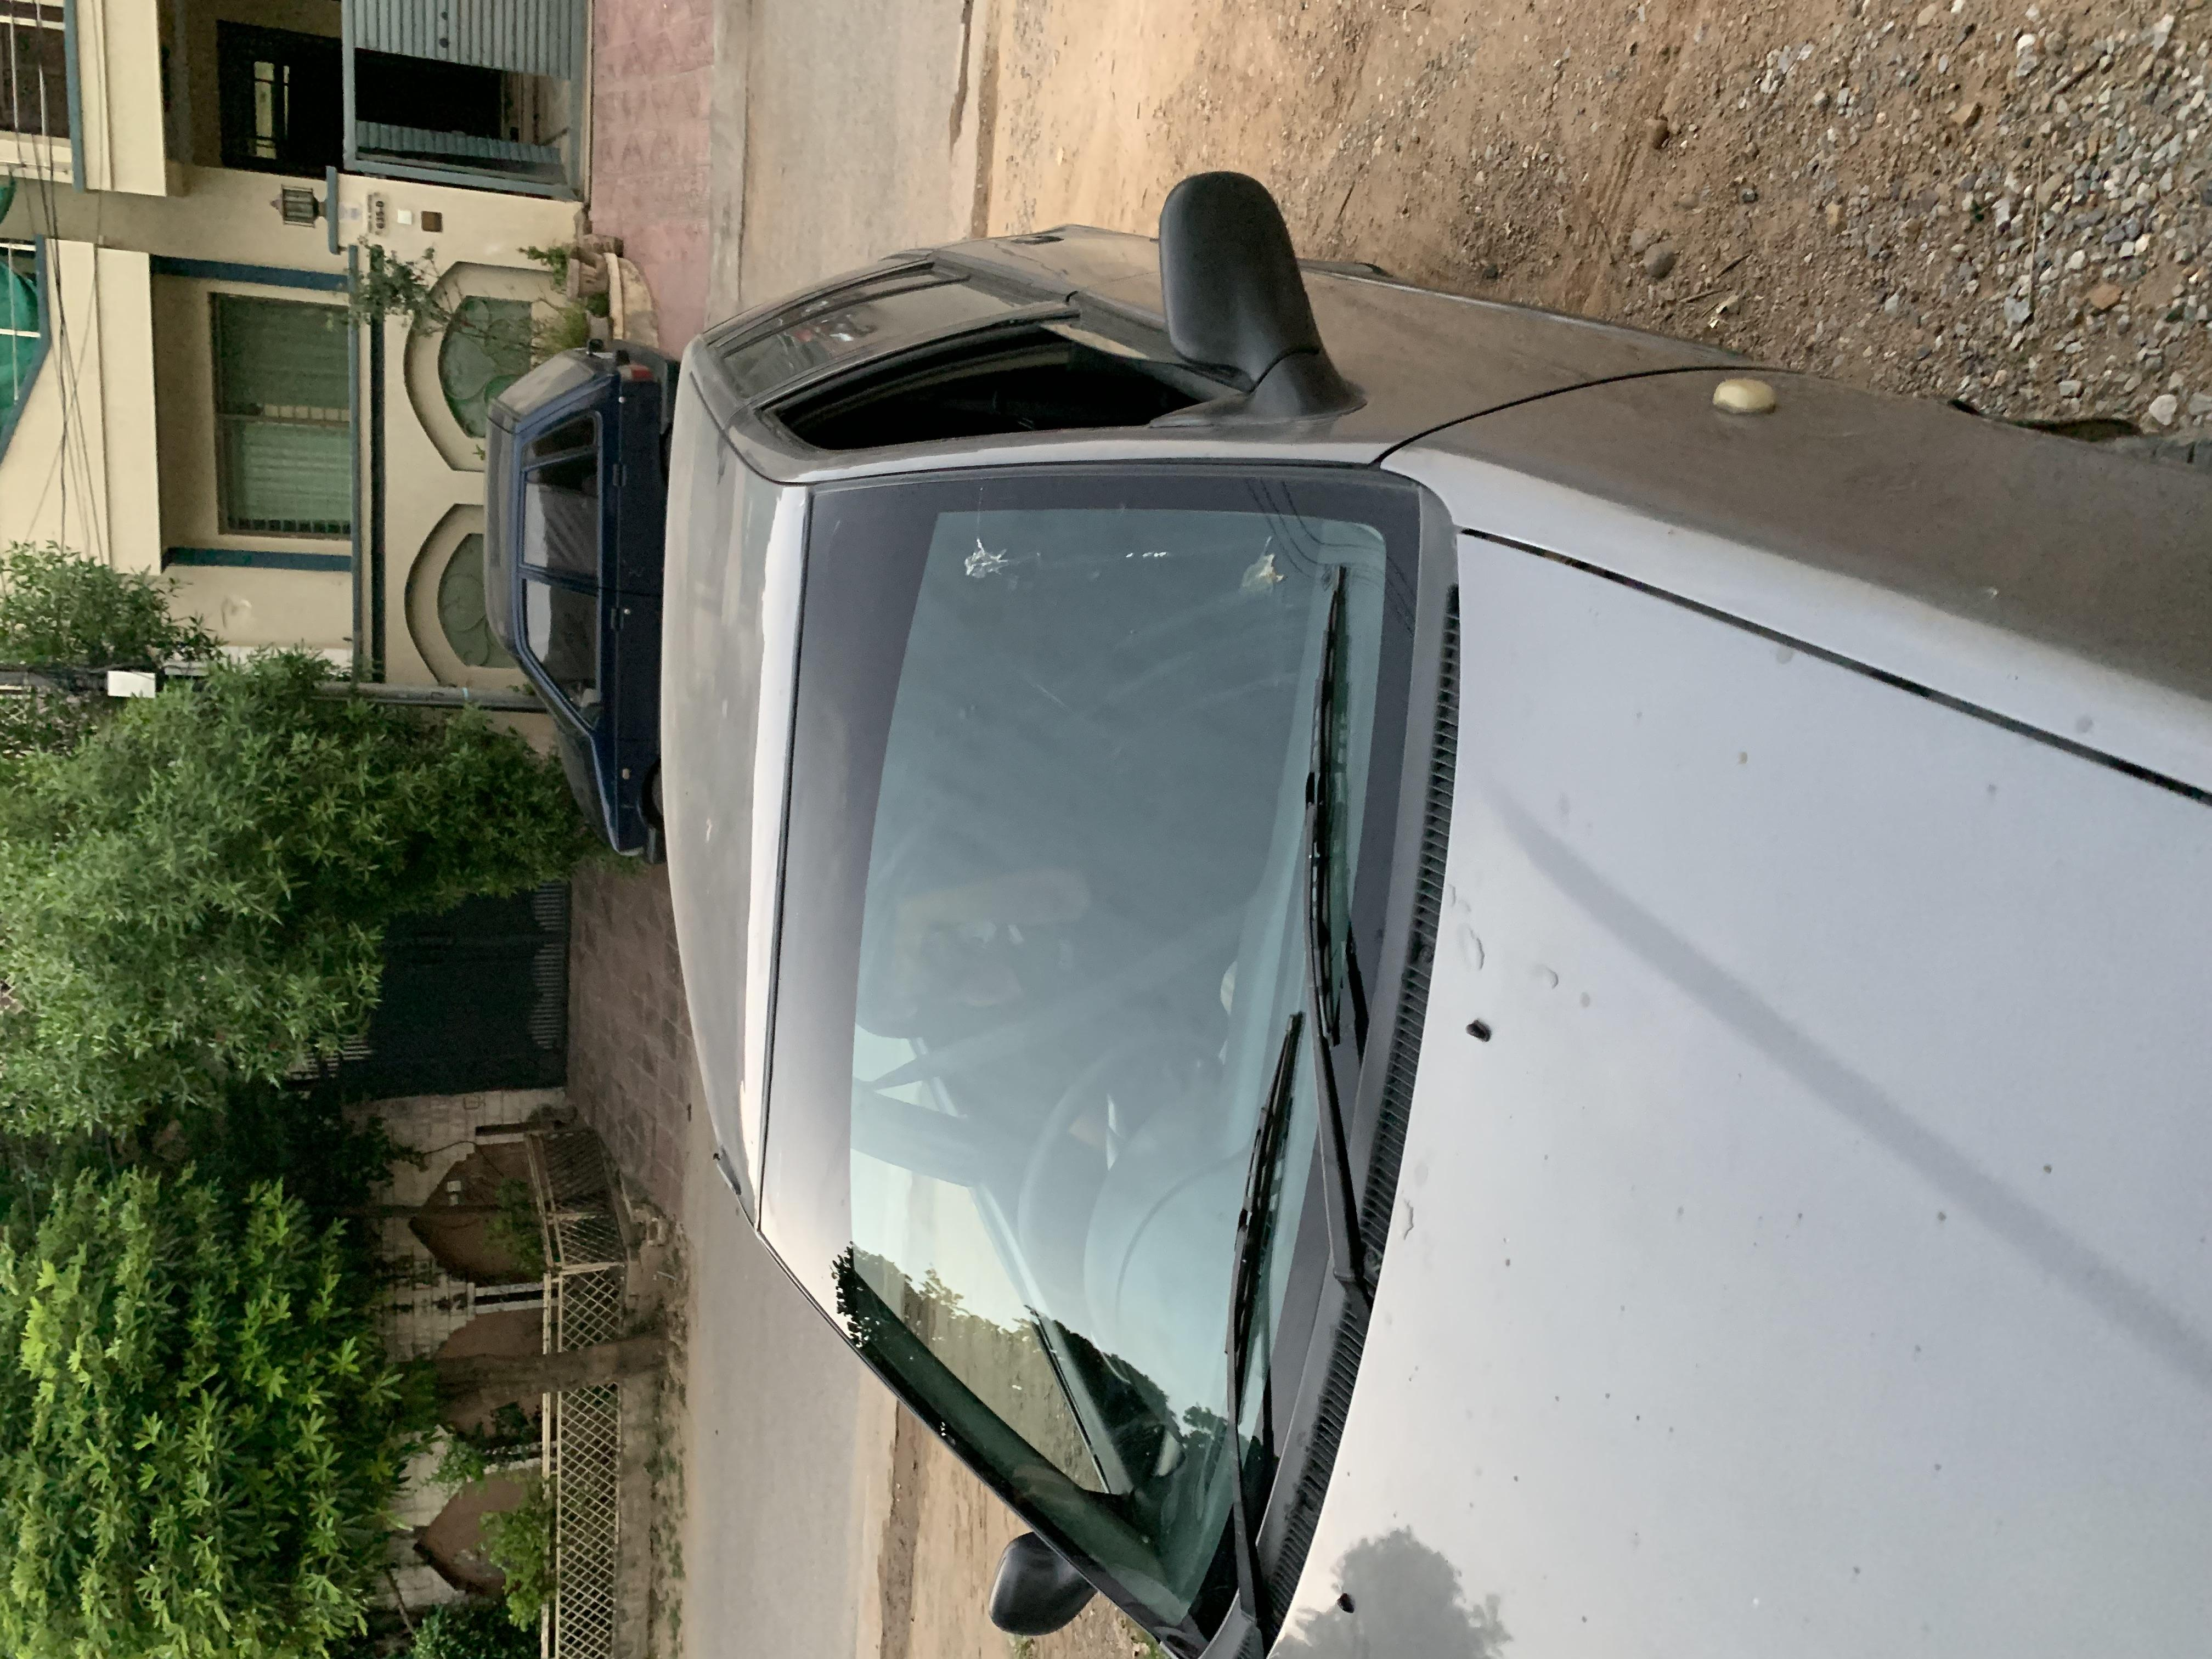windshield: (2, 559, 1595, 1061)
